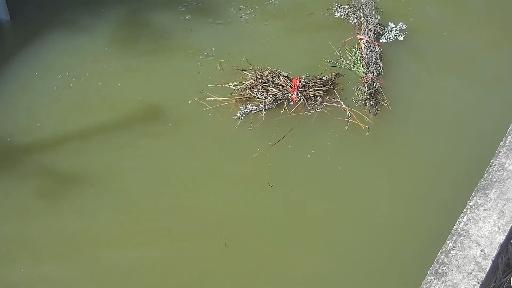twig: (321, 0, 396, 120), (220, 61, 357, 122)
